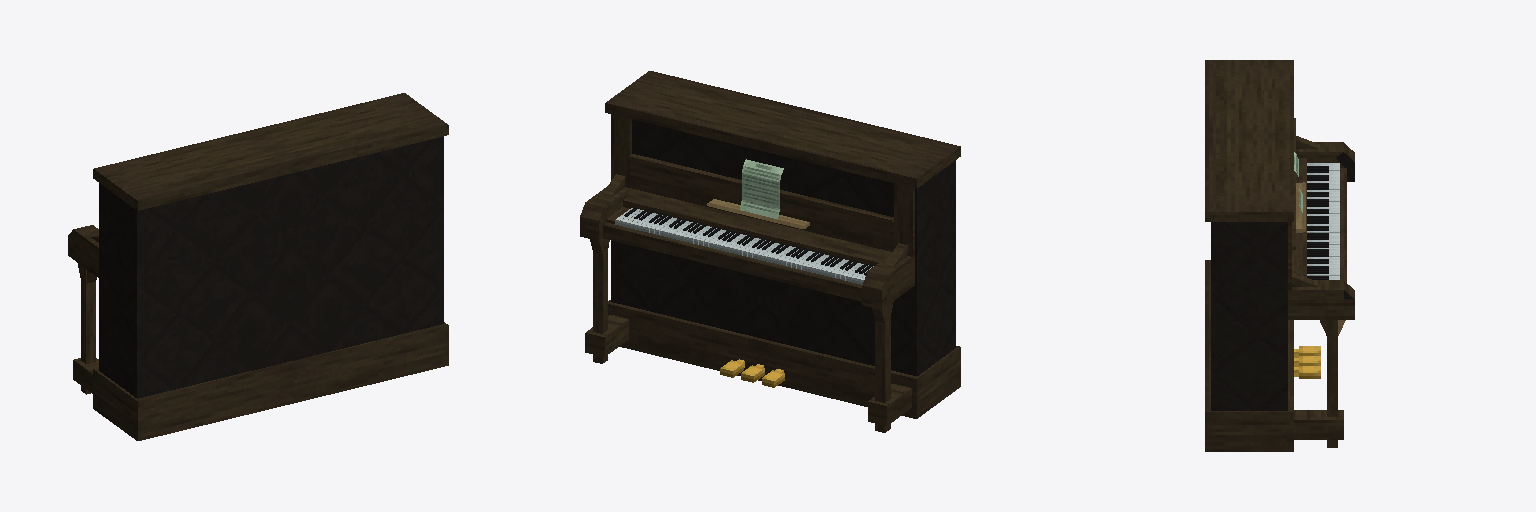
3 renders of one model, left to right at view 1: azimuth 30°, elevation 25°; view 2: azimuth 150°, elevation 25°; view 3: azimuth 270°, elevation 25°, orthographic.
Visible parts, largest first — view 1: cube; view 2: cube; view 3: cube.
Part boxes in pixels (x1,y1,x2,y2): cube: (68, 93, 448, 440); cube: (580, 71, 960, 432); cube: (1205, 60, 1354, 451).
Size of the model in its own units: 32.5 by 24 by 13.5.
3 materials, 3 textured.